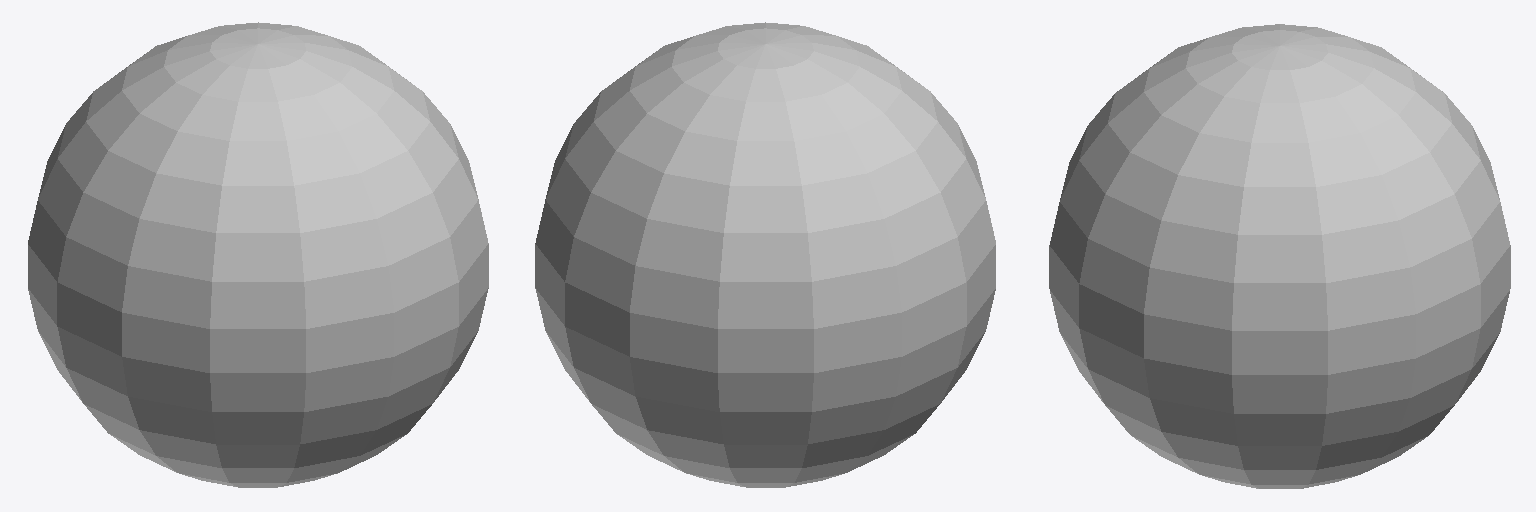
The model's file is lightsphere.obj.
The picture shows the model from 3 angles: view 1: azimuth 30°, elevation 25°; view 2: azimuth 150°, elevation 25°; view 3: azimuth 270°, elevation 25°; orthographic projection.
Visible parts, largest first — view 1: Sphere_Sphere.002; view 2: Sphere_Sphere.002; view 3: Sphere_Sphere.002.
Boxes of the visible parts, x1,y1,x2,y2 form: Sphere_Sphere.002: [28, 22, 488, 487]; Sphere_Sphere.002: [535, 22, 995, 487]; Sphere_Sphere.002: [1049, 24, 1510, 488].
Bounding box in the file's own units: 1.97 × 2 × 1.98.